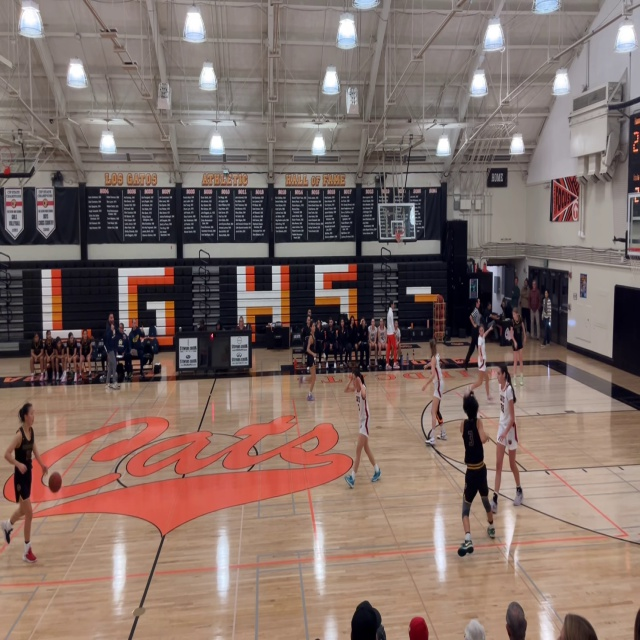Basketball: (48, 472, 62, 492)
